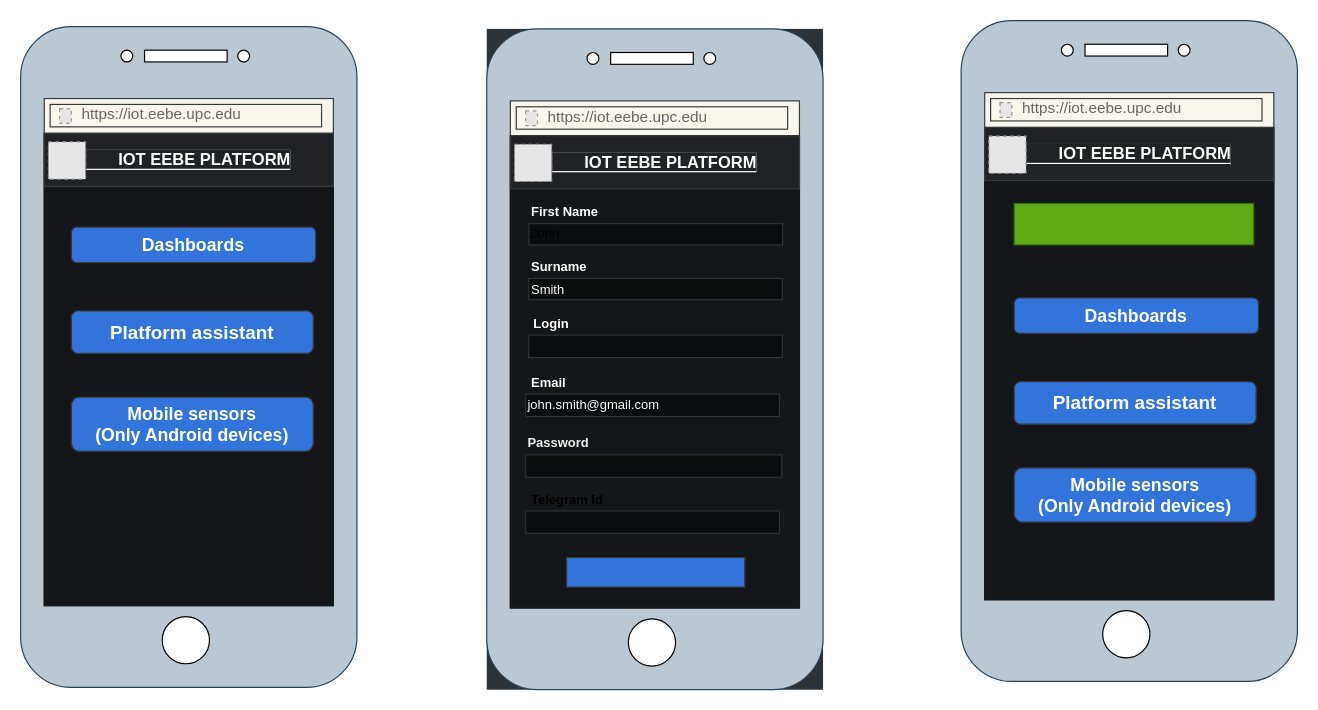
This 1318x710 diagram has some shape labels left out. Grey dashed boxes stand in for pictures. Here are the shapes that lost their labels. From the top down, the centre of each, then its label:
point 1133,223: User registered successfully
point 655,571: SUBMIT
